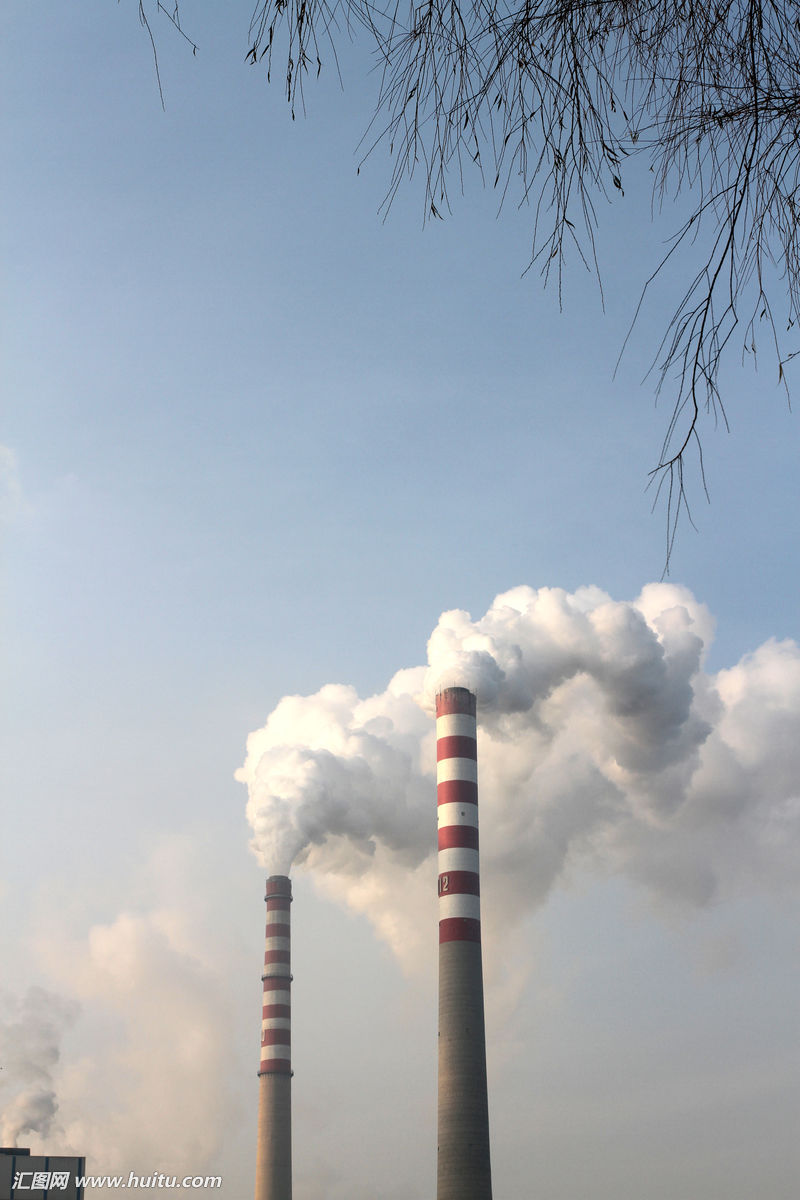dust: (408, 554, 719, 722), (221, 643, 426, 893)
